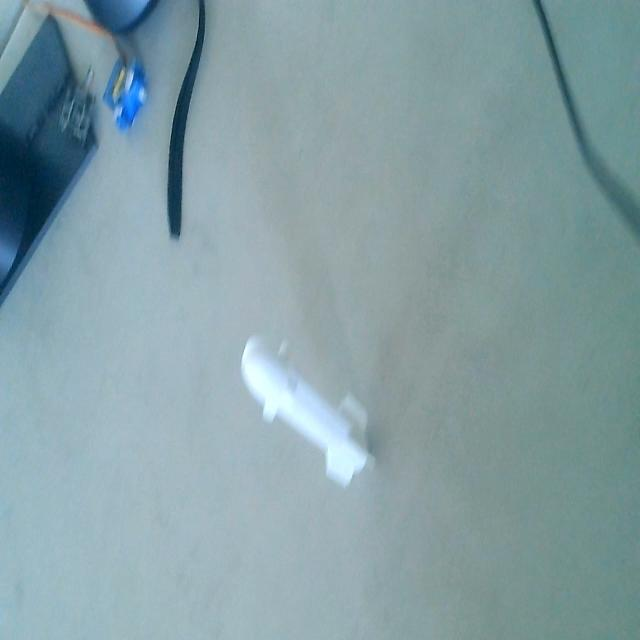Rocket: (236, 318, 377, 502)
